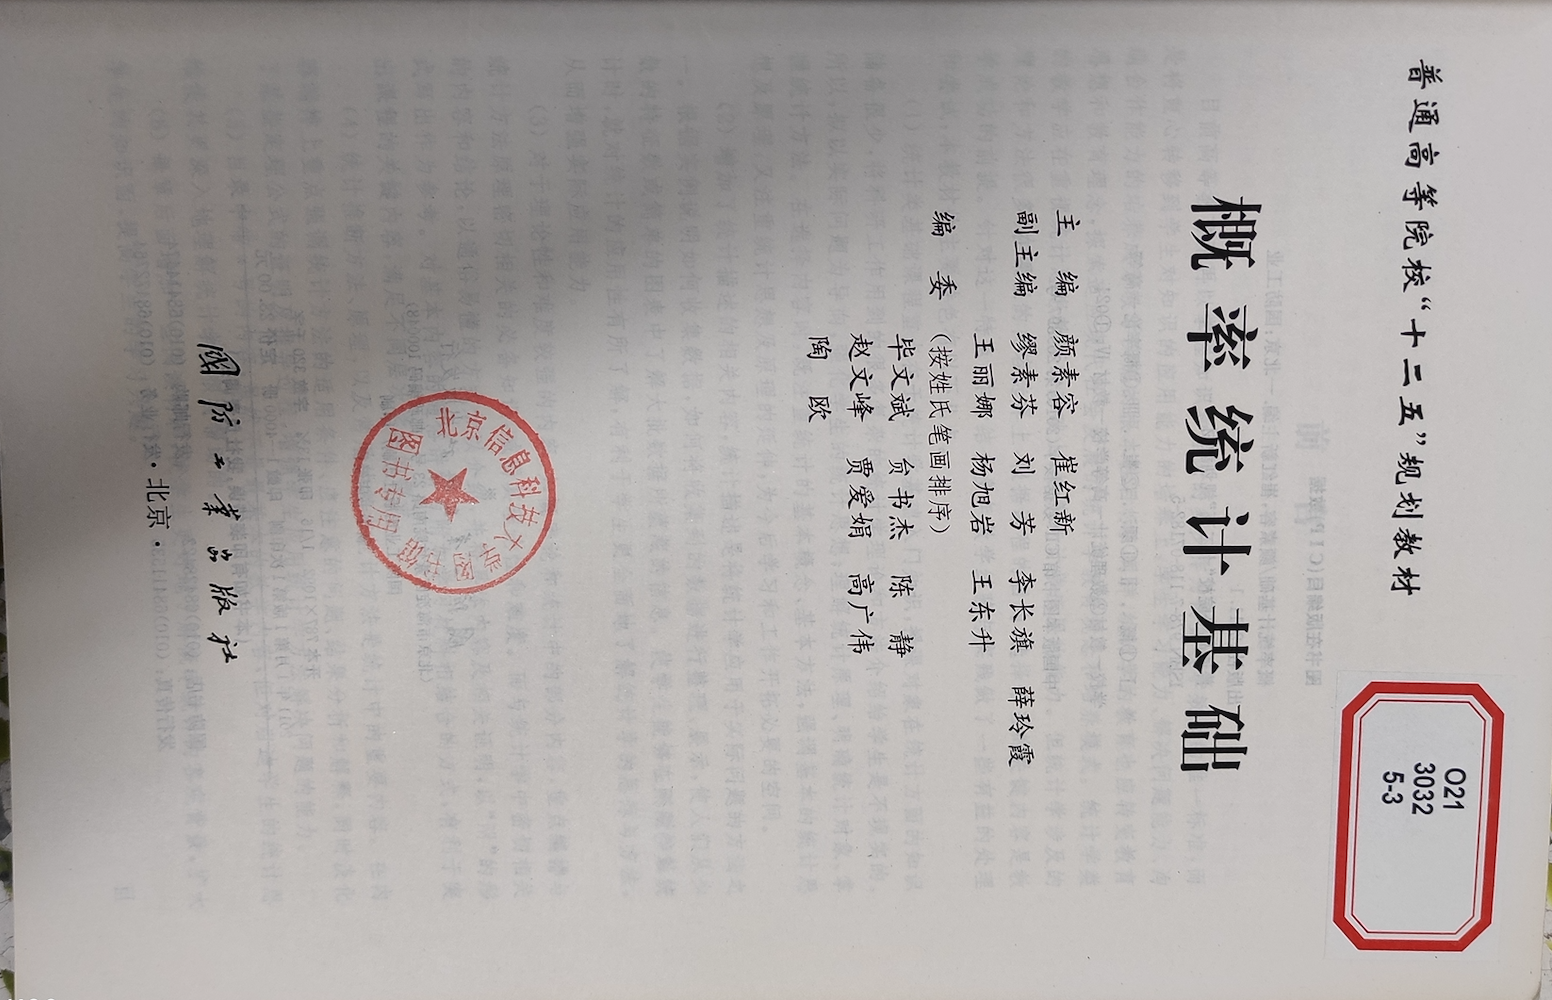Text_area: (797, 150, 1284, 803), (1369, 53, 1471, 630), (371, 353, 564, 626), (144, 305, 282, 662)
